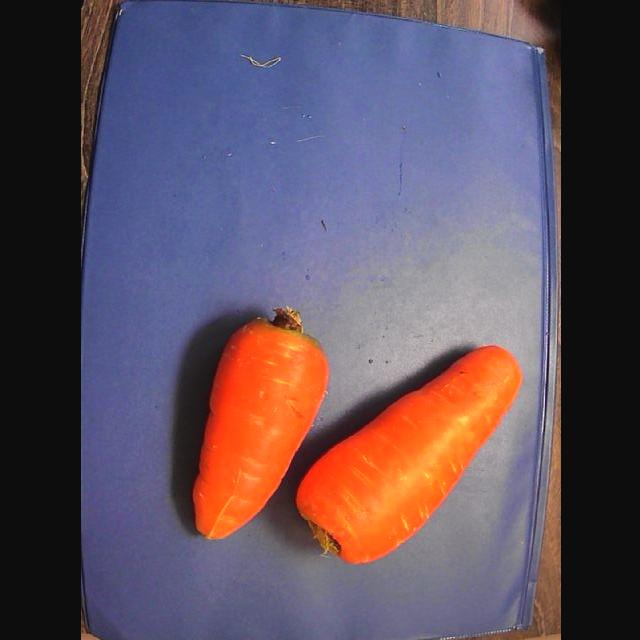zanahoria: (296, 347, 521, 564), (192, 308, 328, 540)
